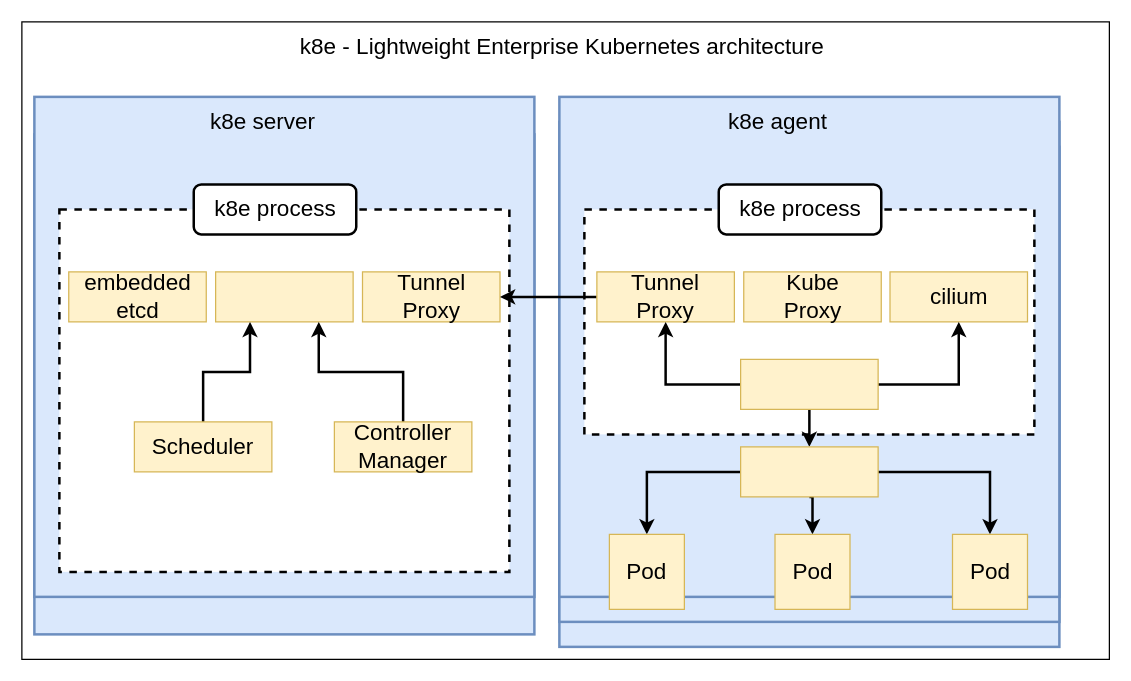
Some shapes in this 1131 by 681 pixel diagram are drawn without their labels. Each missing label, with the centre of its shape:
"API Server" belongs at [283,296].
"containerd" belongs at [808,471].
"kubelet" belongs at [808,383].
